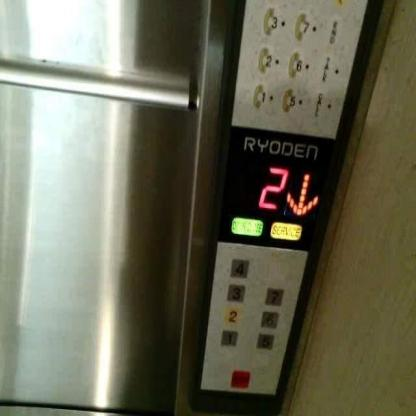1: (218, 327, 238, 346)
2: (223, 305, 242, 325)
3: (226, 284, 246, 302)
4: (229, 256, 249, 278)
5: (256, 333, 274, 350)
6: (259, 308, 278, 329)
7: (262, 285, 284, 306)
blur: (228, 368, 250, 388)
led: (215, 121, 336, 253)
